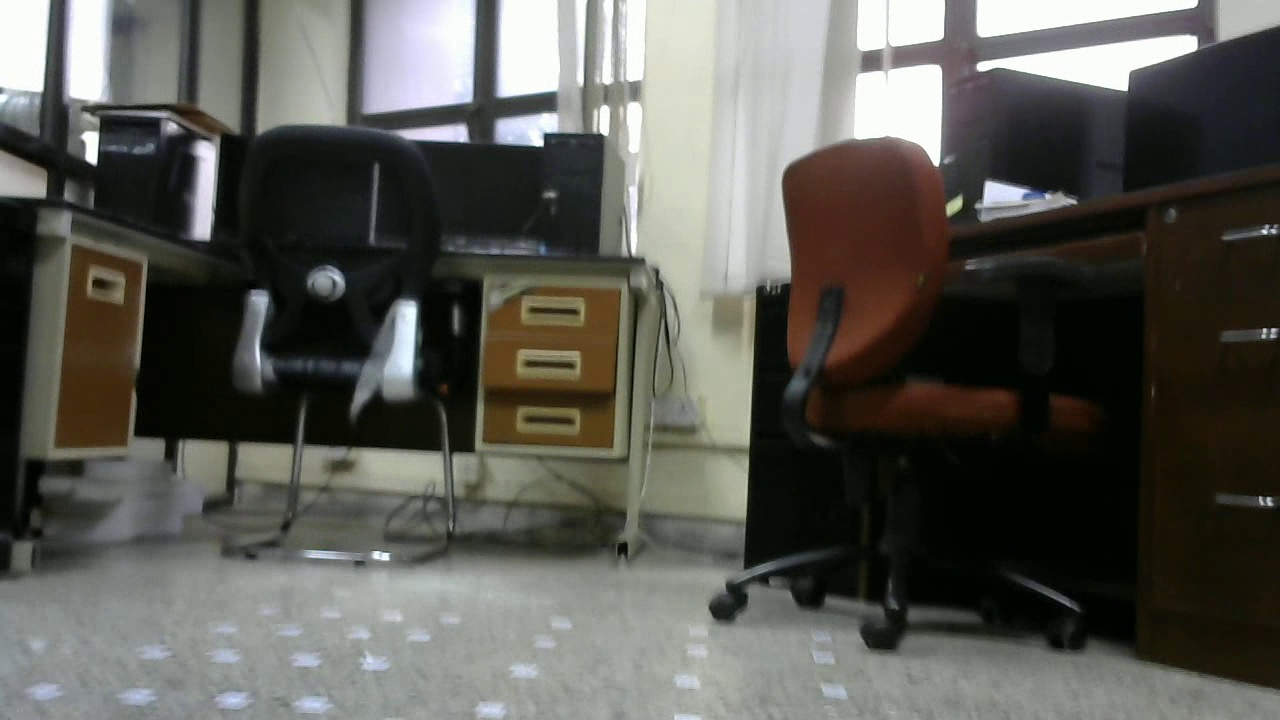chair: (715, 137, 1092, 651), (215, 119, 461, 574)
